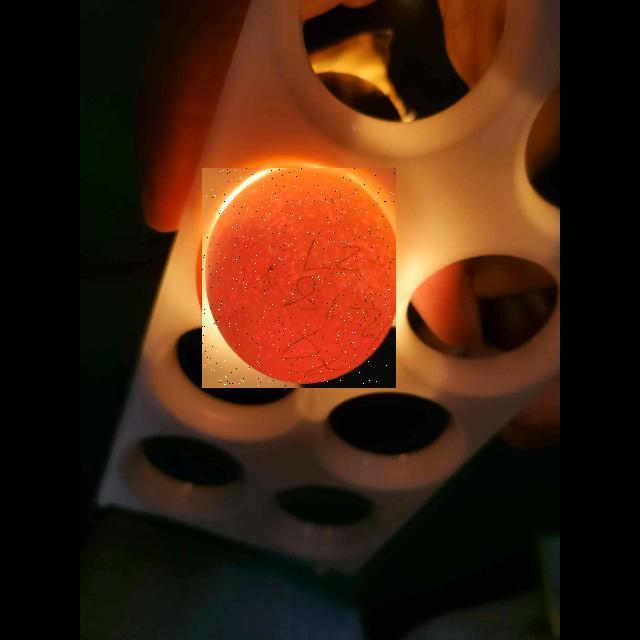Infertile: (202, 168, 396, 388)
